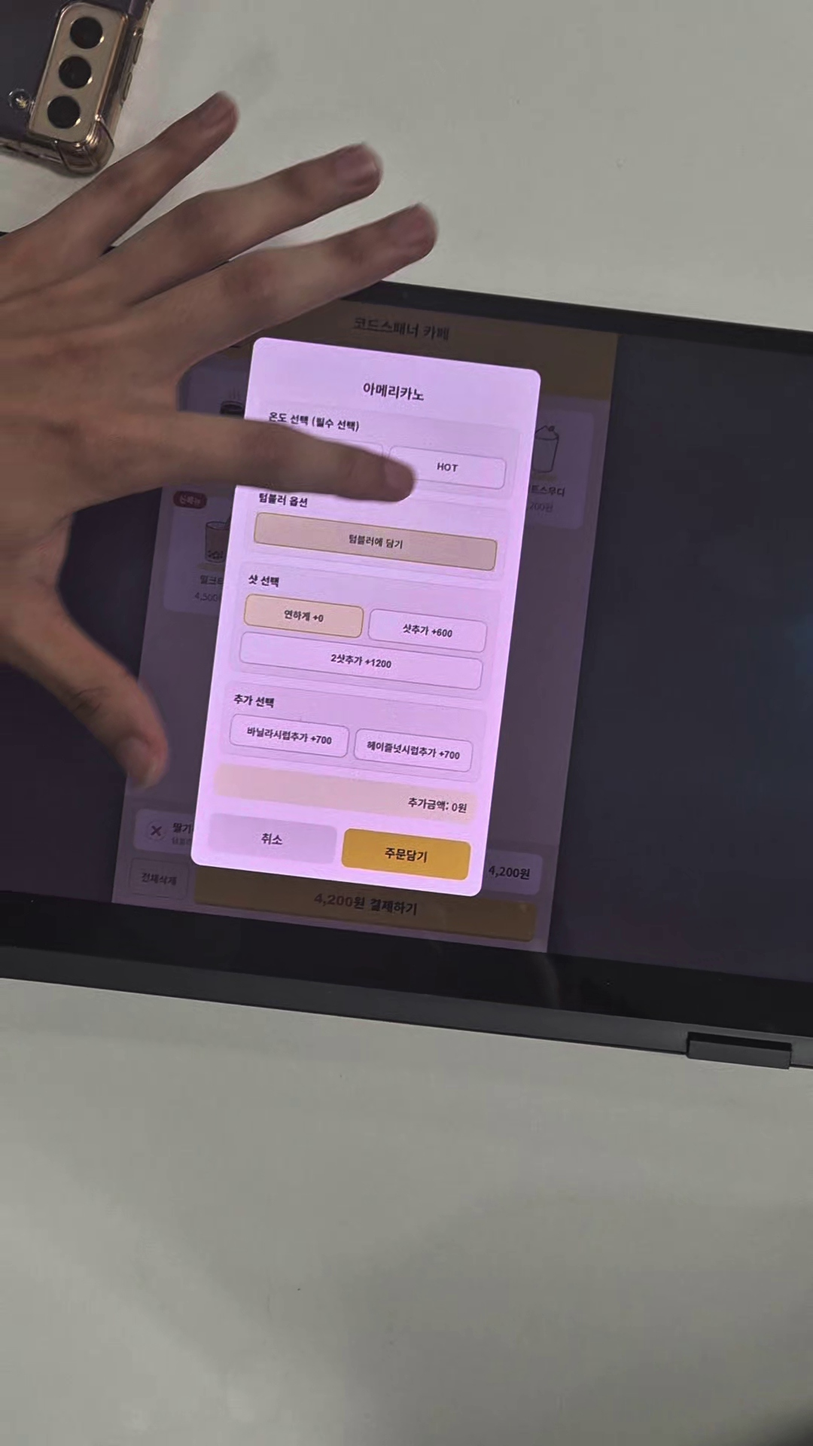action_button: (341, 828, 472, 881), (207, 813, 337, 864)
option_button: (253, 511, 499, 571), (239, 631, 483, 690), (229, 714, 350, 758), (368, 609, 488, 653), (243, 594, 364, 637), (352, 729, 473, 772), (389, 447, 505, 489)
popup_modal: (191, 335, 542, 897)
